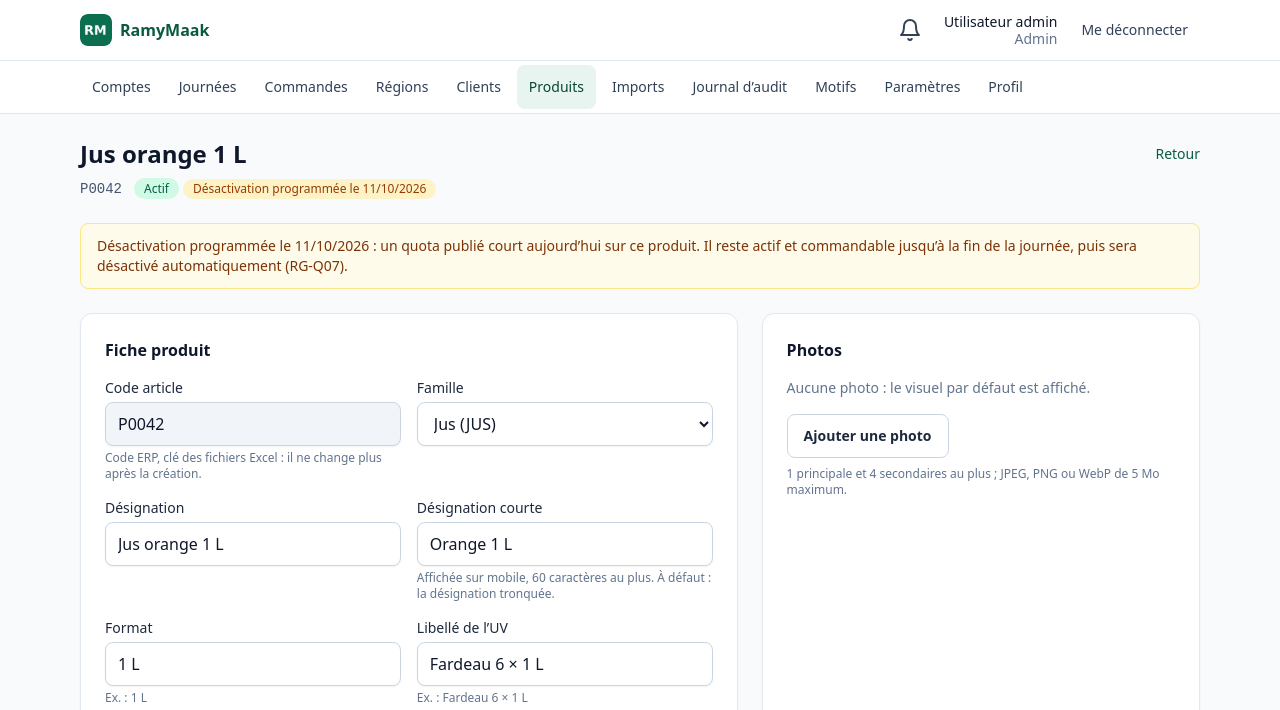
back-office — scheduled product deactivation (RG-Q07) › explains a scheduled deactivation and keeps it when the sheet is saved again
Expected: the text "Désactivation programmée le 11/10/2026 : un quota publié court aujourd’hui sur ce produit. Il reste actif et commandable" is shown, top-left (97, 236), bottom-right (1137, 275)
// Autre modification : le statut n'est pas envoyé, la désactivation reste programmée.
Step 1. Replace the text in the field labelled "Désignation courte" with "Orange 1L" → (565, 544), box top-left (417, 522), bottom-right (713, 566)
(page scrolled)
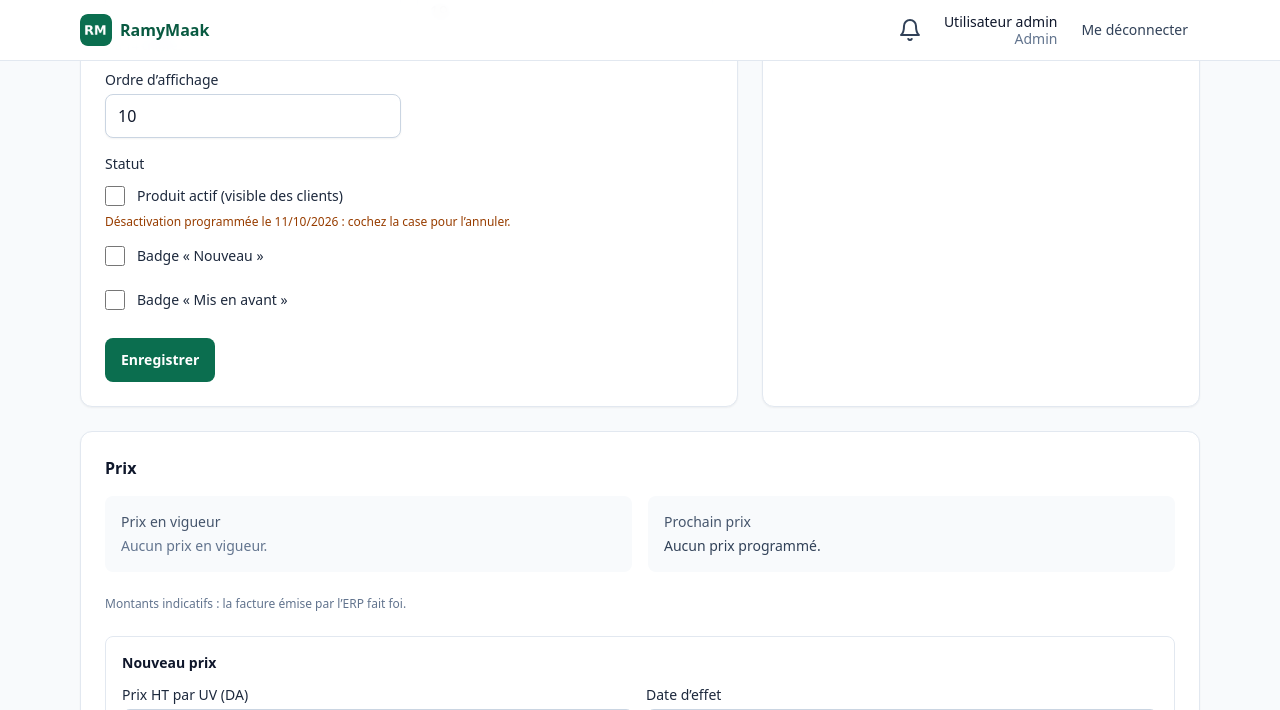
Step 2. Click the button "Enregistrer" → (160, 360), box top-left (105, 338), bottom-right (215, 382)
(page scrolled)
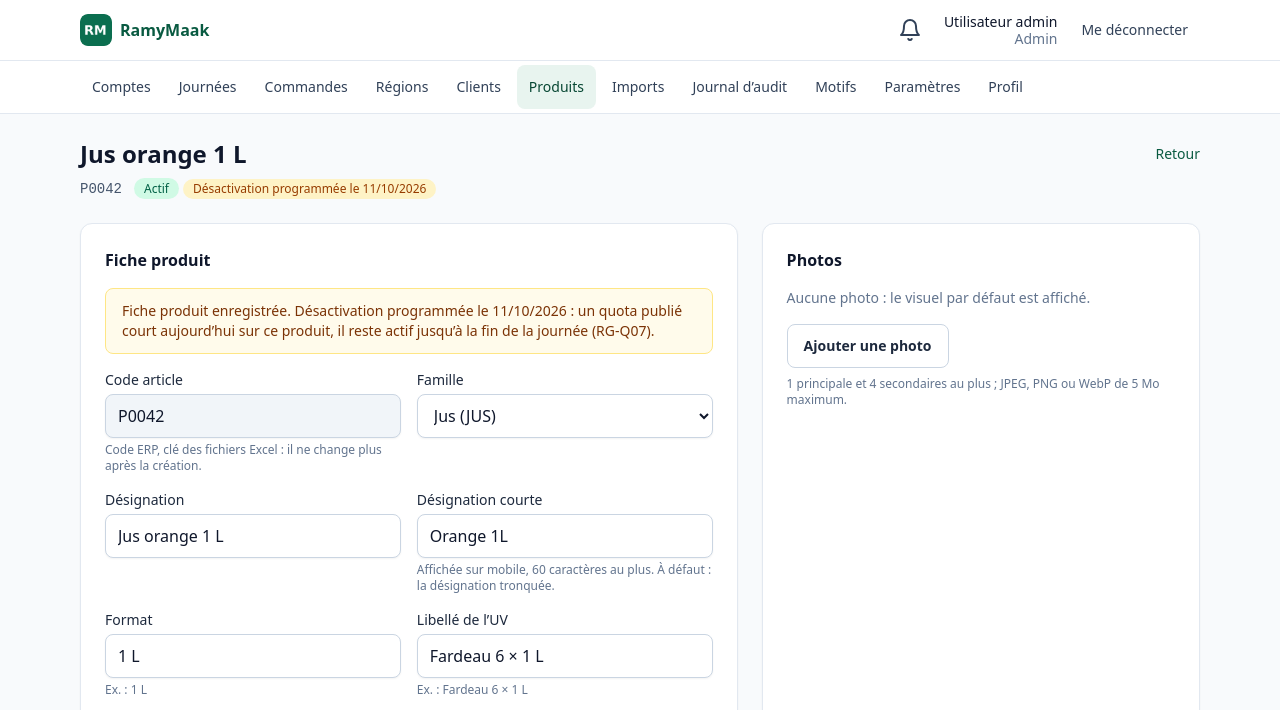
Expected: the text "Fiche produit enregistrée. Désactivation programmée le 11/10/2026" is shown, top-left (122, 301), bottom-right (682, 340)
